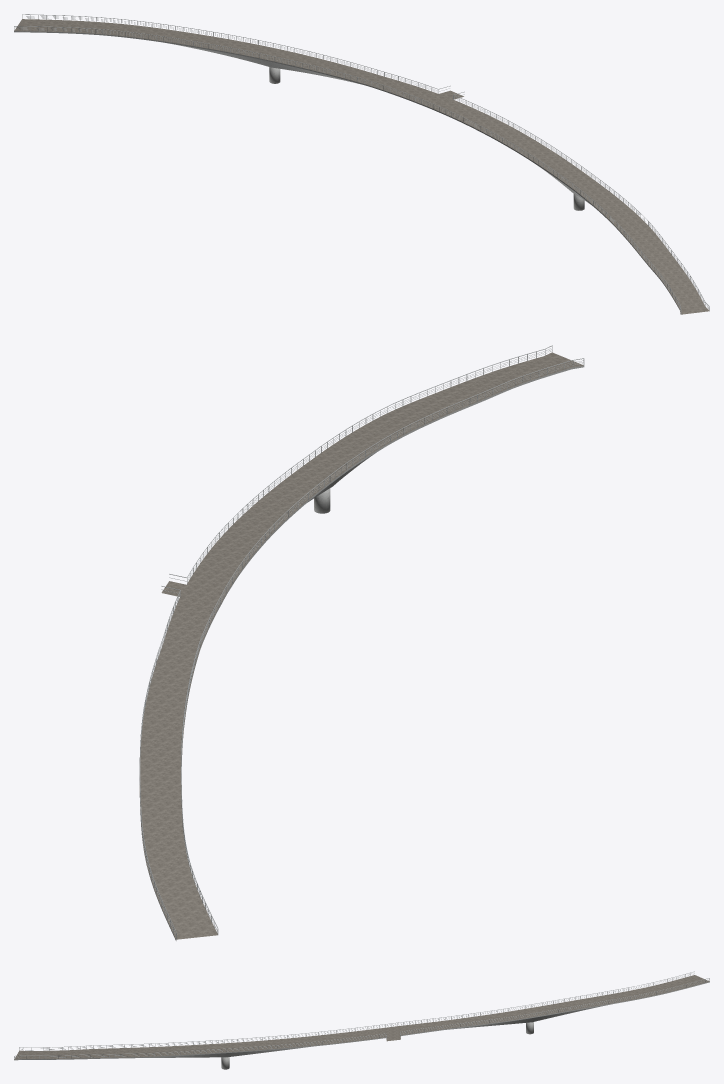
3 renders of one model, top to bottom at view 1: azimuth 30°, elevation 25°; view 2: azimuth 150°, elevation 25°; view 3: azimuth 270°, elevation 25°, orthographic. The views are drawn at different scales.
Parts seen in each view (by area): view 1: Jubilee deck aggregate, Jubilee stainless steel rails, Jubilee variable-depth concrete girder; view 2: Jubilee deck aggregate, Jubilee stainless steel rails, Jubilee variable-depth concrete girder; view 3: Jubilee deck aggregate, Jubilee stainless steel rails, Jubilee variable-depth concrete girder.
Boxes of the visible parts, box(x1,y1,x2,y2) form: Jubilee deck aggregate: box(14, 19, 709, 314); Jubilee stainless steel rails: box(14, 14, 709, 314); Jubilee variable-depth concrete girder: box(14, 31, 680, 313); Jubilee deck aggregate: box(139, 352, 583, 939); Jubilee stainless steel rails: box(139, 345, 584, 939); Jubilee variable-depth concrete girder: box(139, 365, 584, 940); Jubilee deck aggregate: box(14, 975, 709, 1059); Jubilee stainless steel rails: box(14, 971, 709, 1059); Jubilee variable-depth concrete girder: box(14, 981, 709, 1069).
Bounding box in the file's own units: 66.65 × 9.3 × 208.
3 materials, 3 textured.
